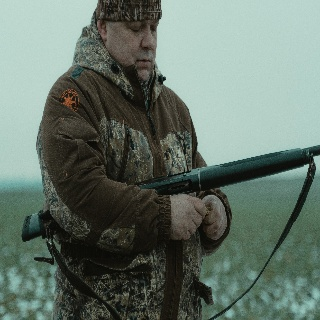rifle: (20, 143, 320, 244)
